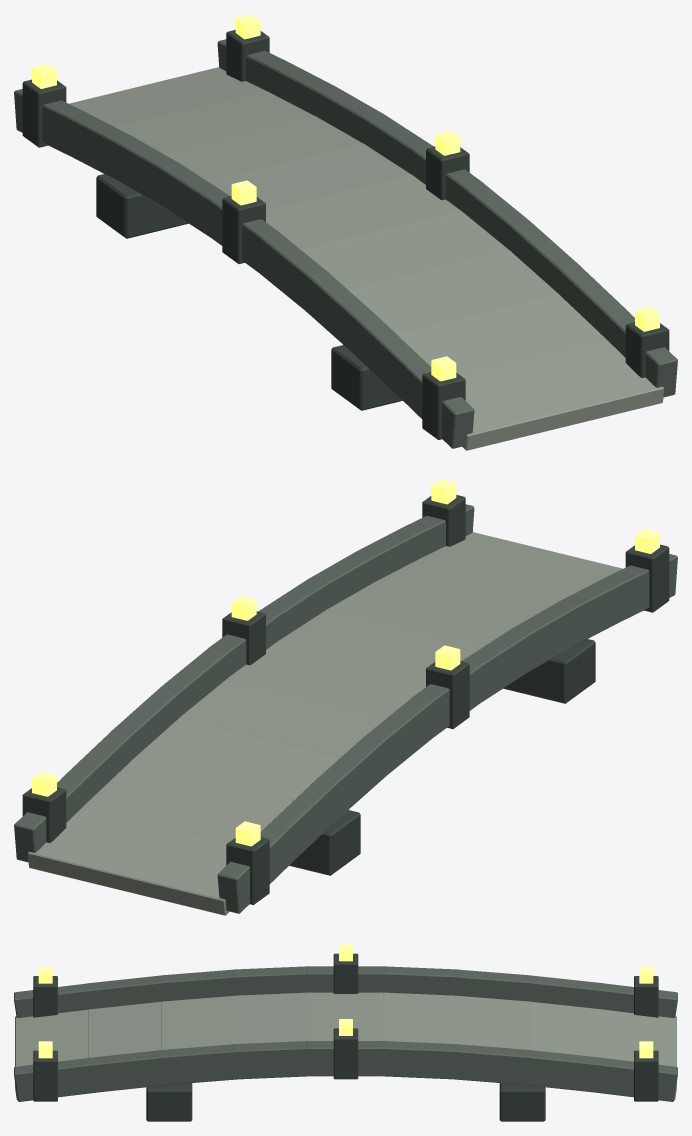
File: EM_StoneBridge_Large.glb
3 renders of one model, top to bottom at view 1: azimuth 30°, elevation 25°; view 2: azimuth 150°, elevation 25°; view 3: azimuth 270°, elevation 25°, orthographic. The views are drawn at different scales.
Parts seen in each view (by area): view 1: EM_StoneBridge_Large__StoneLight, EM_StoneBridge_Large__StoneBase, EM_StoneBridge_Large__StoneDark, EM_StoneBridge_Large__WarmGlow; view 2: EM_StoneBridge_Large__StoneLight, EM_StoneBridge_Large__StoneBase, EM_StoneBridge_Large__StoneDark, EM_StoneBridge_Large__WarmGlow; view 3: EM_StoneBridge_Large__StoneBase, EM_StoneBridge_Large__StoneLight, EM_StoneBridge_Large__StoneDark, EM_StoneBridge_Large__WarmGlow.
Boxes of the visible parts, x1,y1,x2,y2 form: EM_StoneBridge_Large__StoneLight: (69,67,663,450); EM_StoneBridge_Large__StoneBase: (14,39,677,448); EM_StoneBridge_Large__StoneDark: (22,30,669,439); EM_StoneBridge_Large__WarmGlow: (32,14,659,381); EM_StoneBridge_Large__StoneLight: (28,532,622,915); EM_StoneBridge_Large__StoneBase: (14,504,677,913); EM_StoneBridge_Large__StoneDark: (22,495,669,904); EM_StoneBridge_Large__WarmGlow: (32,479,659,846); EM_StoneBridge_Large__StoneBase: (14,966,677,1101); EM_StoneBridge_Large__StoneLight: (15,992,676,1099); EM_StoneBridge_Large__StoneDark: (33,953,658,1121); EM_StoneBridge_Large__WarmGlow: (38,944,653,1058).
Bounding box in the file's own units: 23.2 × 11.8 × 75.17.
